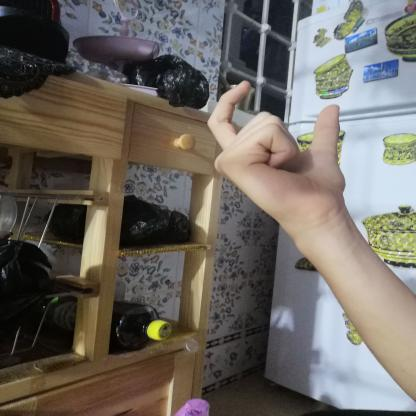NOON: (191, 66, 359, 225)
